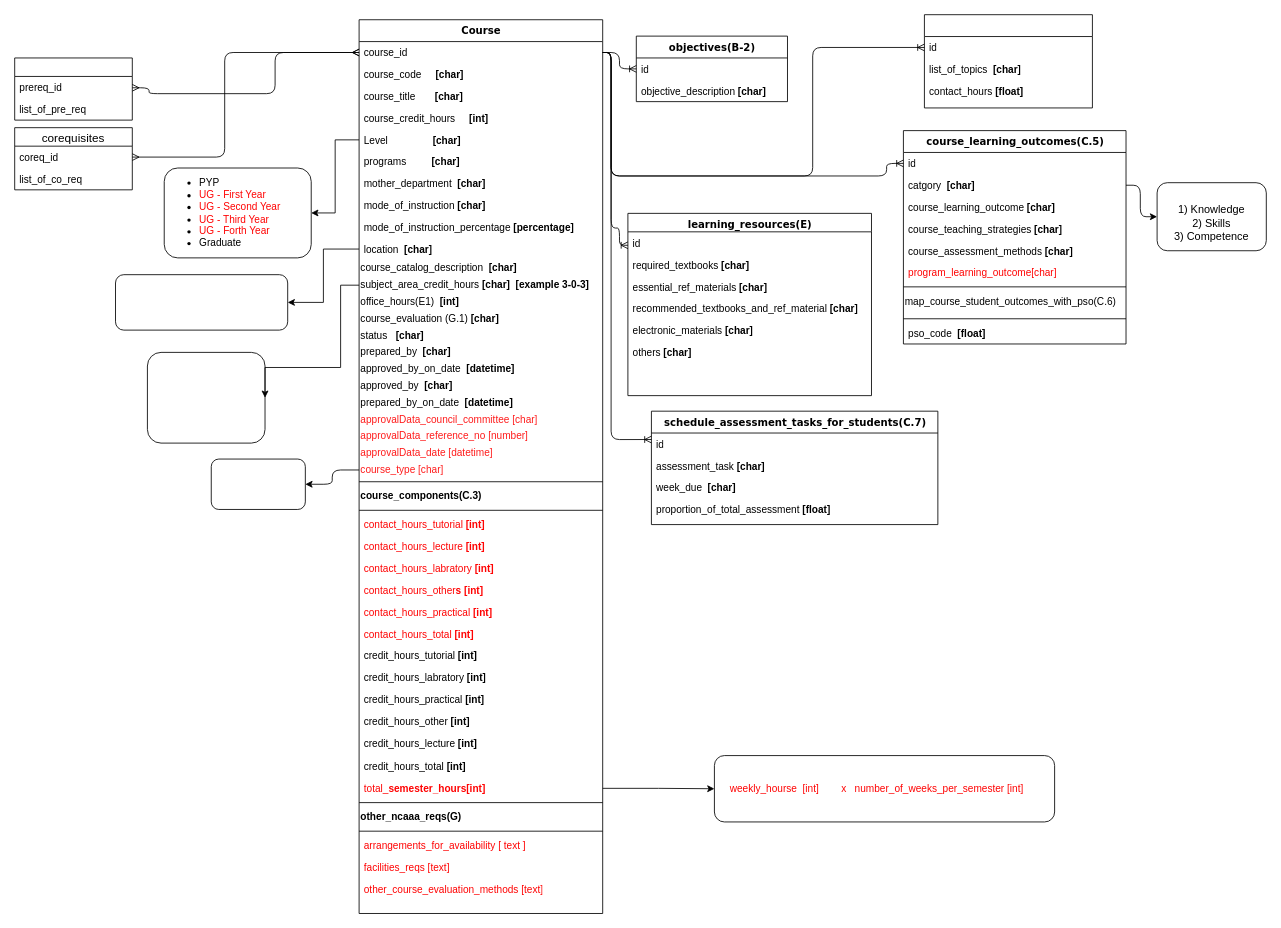
The diagram is 1281 pixels wide and 928 high, and some of its shapes have lost their labels. Each missing label, with the box of its shape:
Engineering math_science humanities social_sciences general_education other: (147, 352, 265, 443)
Main Campus Dammam Community College Other: (115, 274, 288, 330)
prerequisites: (14, 57, 132, 120)
Required Elective: (210, 458, 305, 509)
topics_to_be_covered(C.2): (924, 14, 1092, 108)
